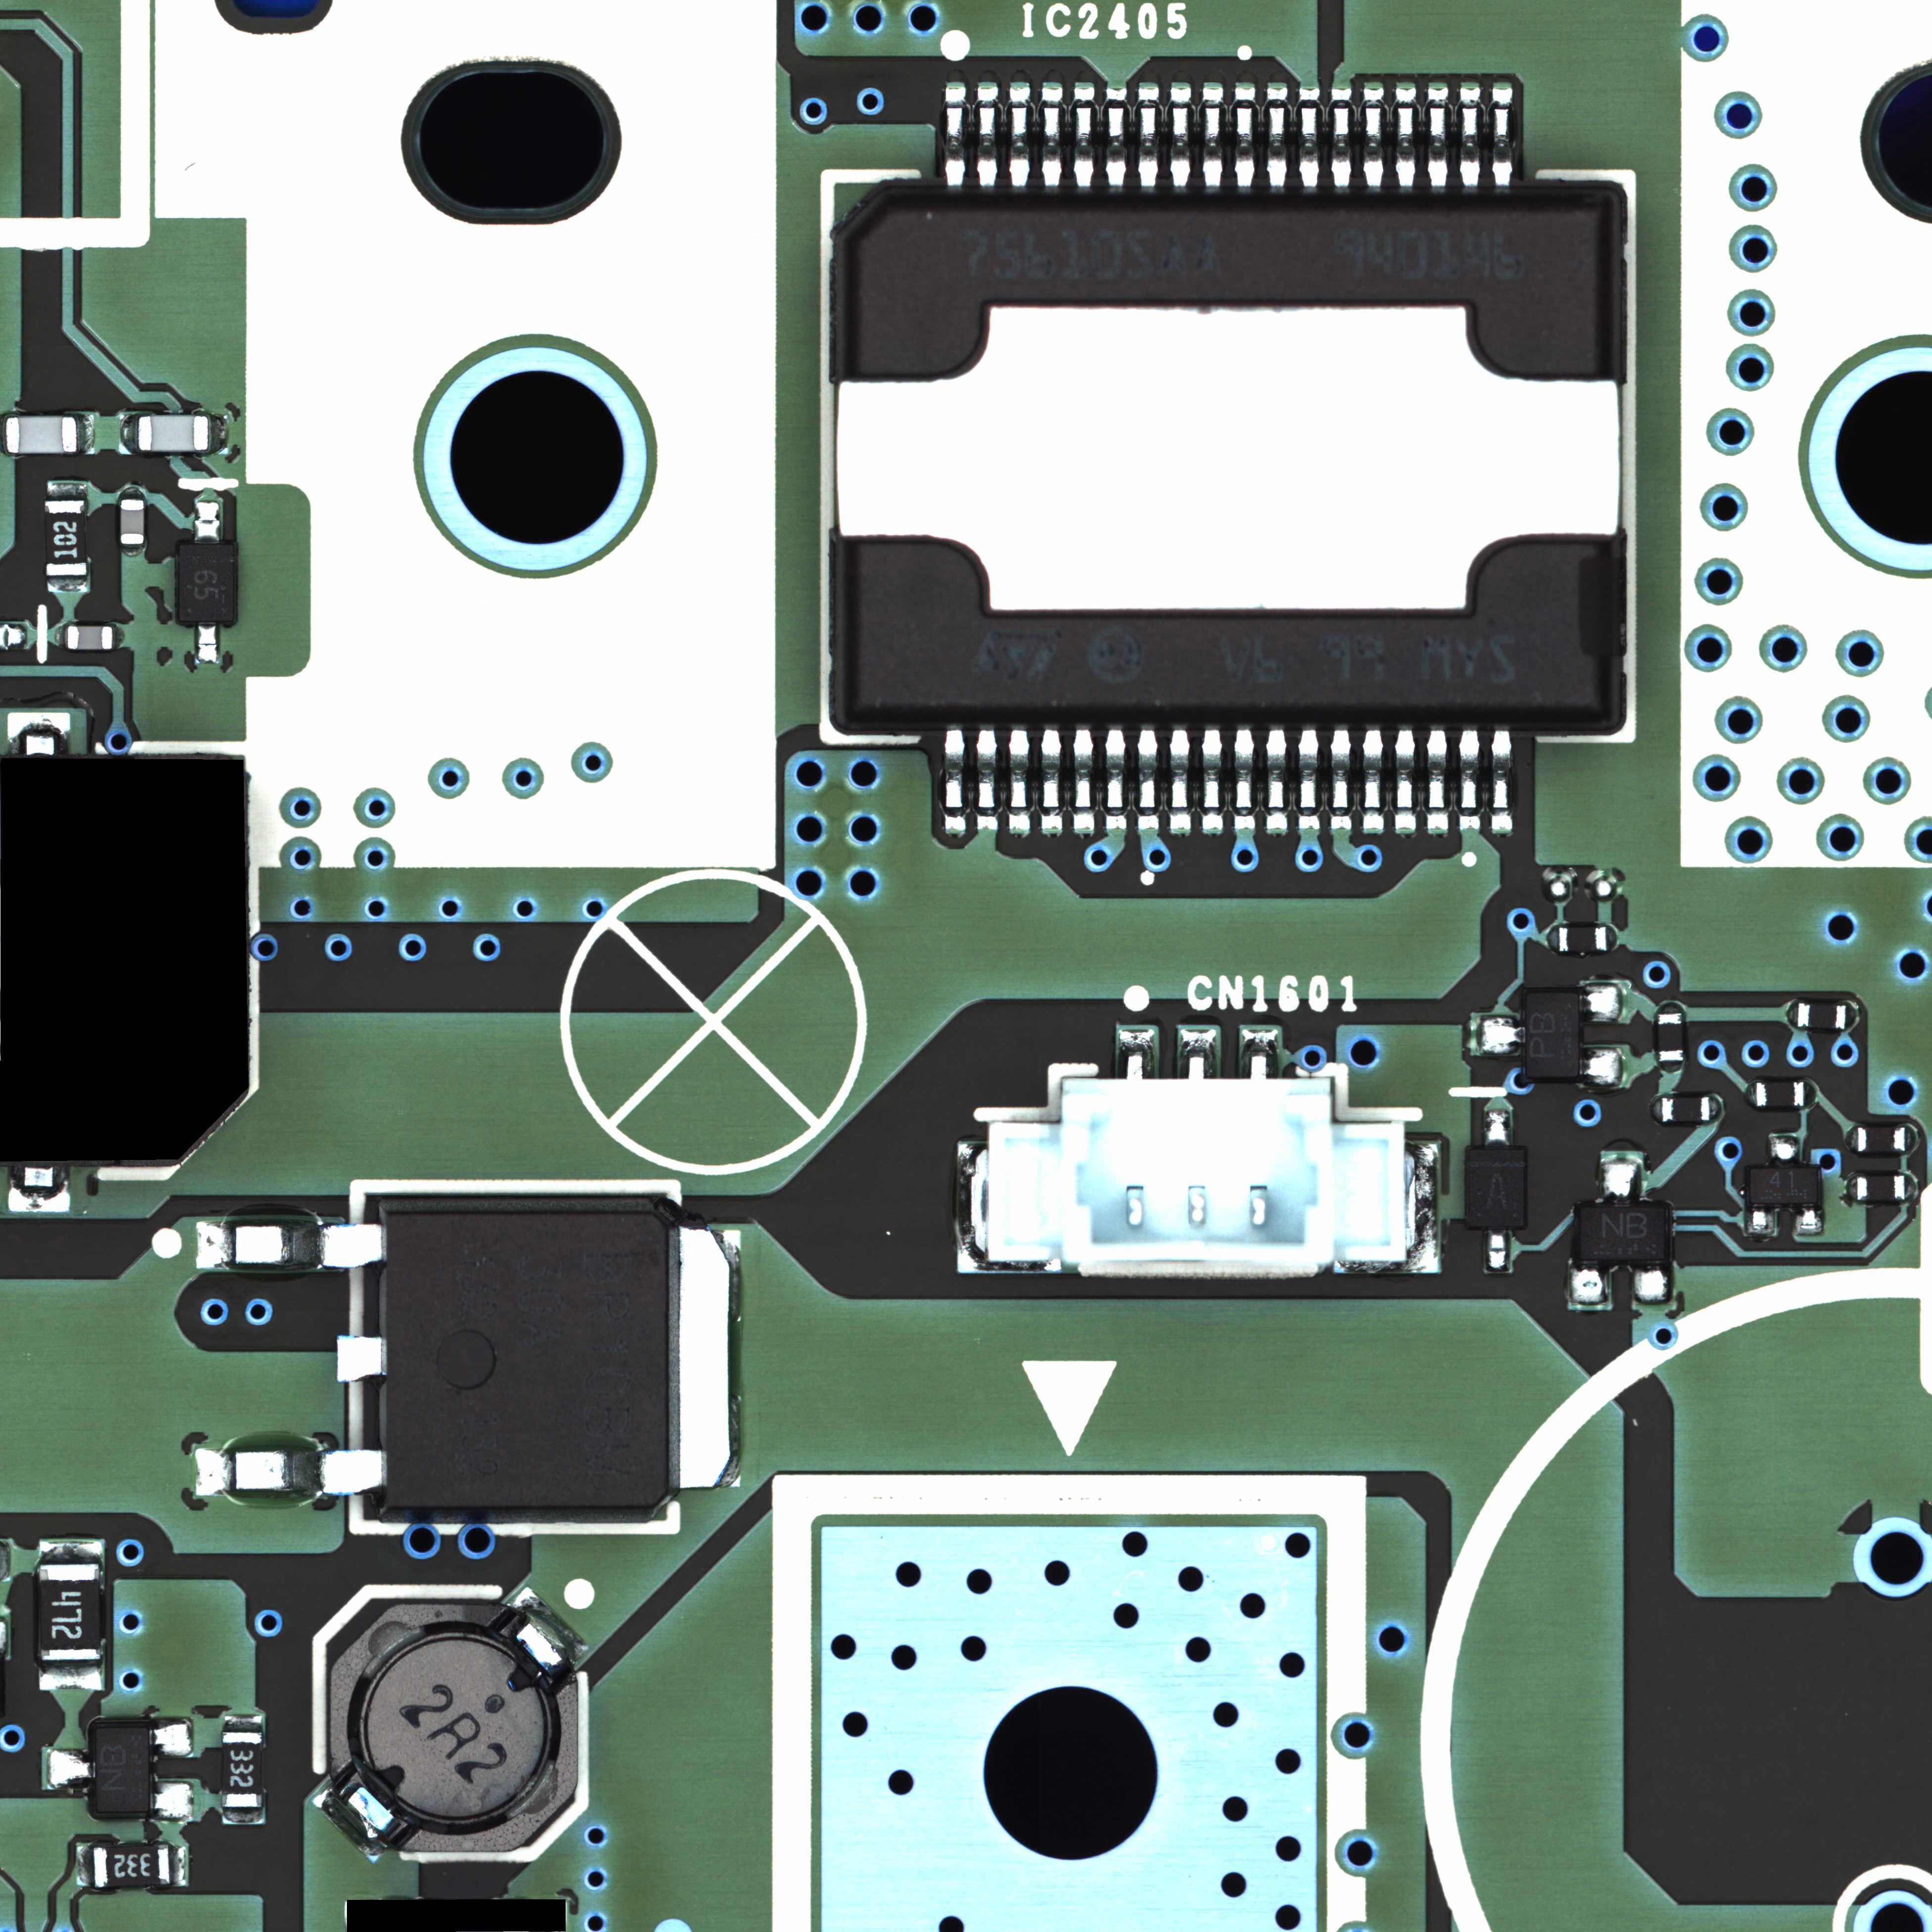Package: (837, 195, 1621, 724), (272, 1548, 633, 1909), (387, 1212, 669, 1506), (37, 1564, 99, 1660), (1580, 1207, 1665, 1260), (1527, 991, 1580, 1076), (96, 1727, 149, 1812), (177, 543, 232, 623), (1467, 1150, 1523, 1226), (46, 501, 87, 575), (94, 1845, 168, 1884), (223, 1732, 260, 1806), (138, 416, 209, 451), (7, 418, 76, 453), (1750, 1168, 1817, 1203), (1798, 1001, 1845, 1028), (1858, 1125, 1905, 1152), (1755, 1081, 1805, 1106), (1661, 1097, 1711, 1122), (1656, 1014, 1683, 1060), (1856, 1175, 1904, 1200), (1559, 927, 1606, 952), (120, 499, 143, 545), (67, 626, 111, 649)
Solder: (669, 1230, 741, 1490), (195, 1221, 386, 1269), (196, 1447, 386, 1495), (510, 1583, 591, 1667), (311, 1782, 393, 1865), (7, 1166, 71, 1212), (7, 709, 71, 755), (1070, 725, 1095, 830), (943, 87, 966, 195), (1008, 87, 1031, 195), (1040, 87, 1063, 195), (1072, 87, 1095, 195), (1104, 87, 1127, 195), (1169, 87, 1192, 195), (1233, 87, 1256, 195), (1299, 87, 1322, 195), (1362, 87, 1385, 195), (1394, 87, 1417, 195), (1428, 87, 1451, 195), (1201, 87, 1224, 195), (1458, 87, 1481, 195), (1491, 87, 1514, 195), (1007, 724, 1030, 832), (1040, 724, 1063, 832), (1136, 724, 1159, 832), (1329, 724, 1352, 832), (943, 725, 966, 832), (975, 725, 998, 832), (1169, 724, 1192, 830), (1265, 724, 1288, 830), (1426, 724, 1449, 830), (1200, 724, 1223, 830), (1458, 725, 1481, 832), (1490, 725, 1513, 832), (1104, 725, 1127, 830), (336, 1334, 386, 1382), (977, 87, 998, 195), (1138, 87, 1159, 195), (1267, 87, 1288, 195), (1330, 87, 1352, 195), (1233, 724, 1254, 832), (1362, 724, 1384, 832), (1394, 724, 1415, 832), (1299, 724, 1320, 830), (1599, 1159, 1642, 1207), (39, 1660, 103, 1691), (46, 1748, 96, 1789), (1568, 1260, 1610, 1306), (1476, 1016, 1525, 1054), (1631, 1260, 1674, 1304), (149, 1782, 193, 1822), (149, 1720, 193, 1757), (1580, 984, 1622, 1021), (1580, 1047, 1622, 1085), (39, 1541, 103, 1564), (193, 501, 221, 543), (1484, 1228, 1511, 1272), (1483, 1109, 1511, 1148), (1767, 1136, 1799, 1168), (1744, 1205, 1776, 1237), (1794, 1205, 1824, 1237), (196, 623, 219, 663), (209, 414, 228, 455), (78, 414, 96, 455), (120, 414, 138, 453), (48, 483, 87, 501), (225, 1714, 264, 1732), (46, 577, 88, 593), (221, 1806, 262, 1822), (170, 1845, 186, 1884), (78, 1847, 94, 1886), (1844, 1125, 1858, 1154), (1805, 1079, 1817, 1108), (1649, 1095, 1661, 1123), (119, 487, 145, 499), (120, 545, 145, 557), (1546, 927, 1559, 952), (1658, 1062, 1683, 1074), (1743, 1081, 1755, 1106), (1847, 1000, 1858, 1028), (1844, 1173, 1854, 1201), (1608, 925, 1619, 952), (1787, 1001, 1798, 1028), (1711, 1095, 1721, 1122), (1905, 1125, 1916, 1152), (1905, 1173, 1916, 1200), (113, 625, 124, 649), (1658, 1001, 1683, 1012), (55, 625, 65, 646)
